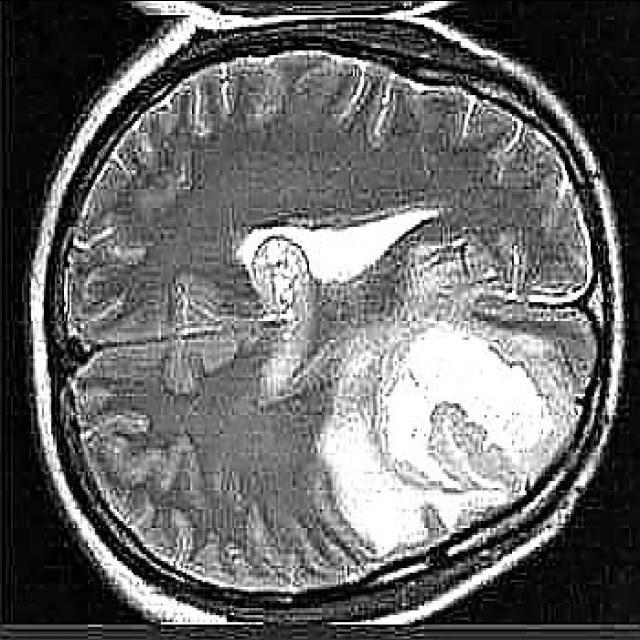tumor: (336, 327, 571, 551)
